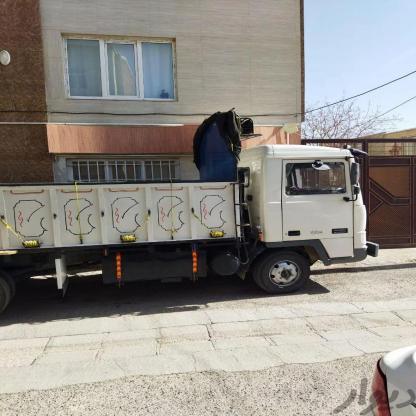Truck: (0, 139, 379, 324)
